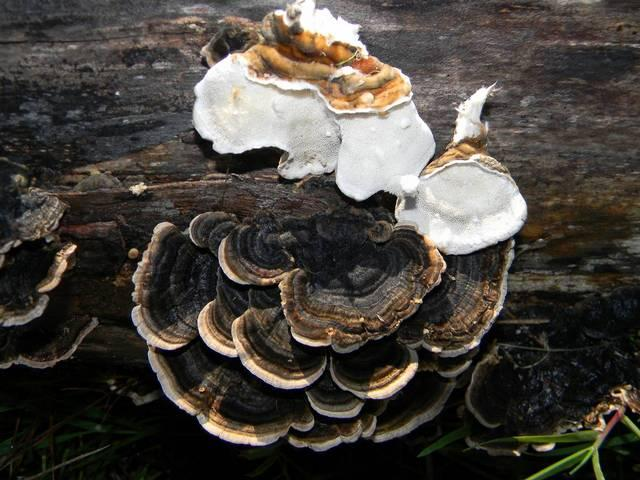Non-edible Mushroom: (128, 1, 529, 451), (190, 0, 436, 201)
